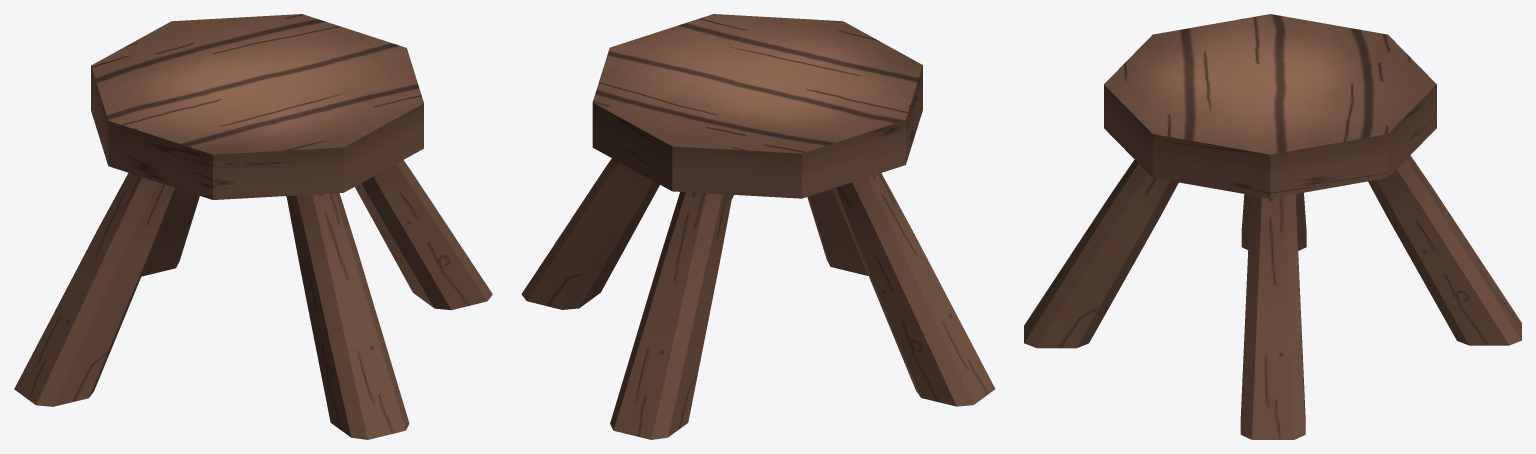
Rendered from stool_mesh.fbx.
3 views of the same model, side by side, from view 1: azimuth 30°, elevation 25°; view 2: azimuth 150°, elevation 25°; view 3: azimuth 270°, elevation 25° (orthographic). The views are drawn at different scales.
Visible parts, largest first — view 1: polySurface46; view 2: polySurface46; view 3: polySurface46.
Part boxes in pixels (x1,y1,x2,y2): polySurface46: [14, 14, 492, 439]; polySurface46: [521, 14, 995, 439]; polySurface46: [1024, 14, 1521, 439].
Size of the model in its own units: 74.06 by 40.05 by 72.43.
